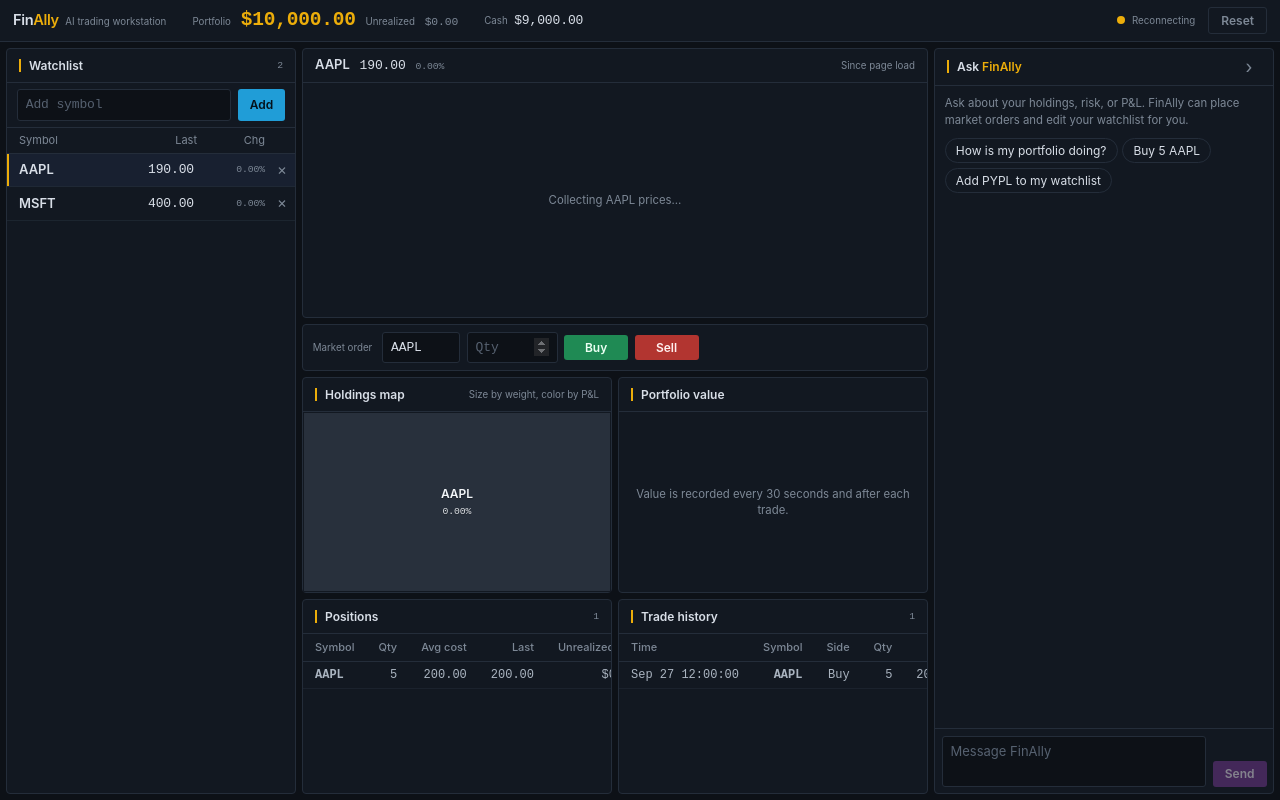
Test: Terminal › resets to the seed state
Expected: the row with test id "position-row-AAPL" is shown, [303,661,611,688]
Click the button with test id "reset-button" at [1238, 20], box [1208,6,1267,34]
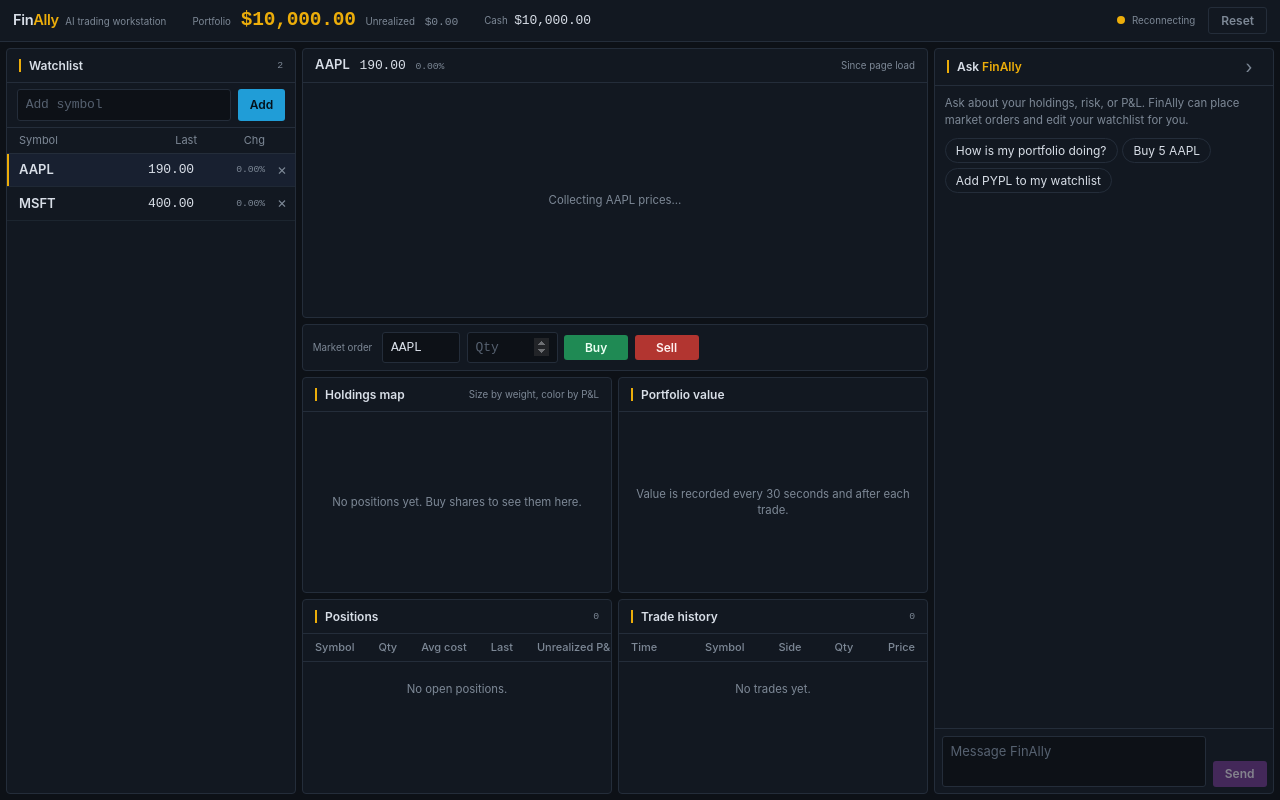
Expected: the row with test id "position-row-AAPL" is gone
Expected: the text with test id "header-cash" reads "$10,000.00", [514,12,591,28]
Expected: no rows with test id "trade-history-row" are shown
